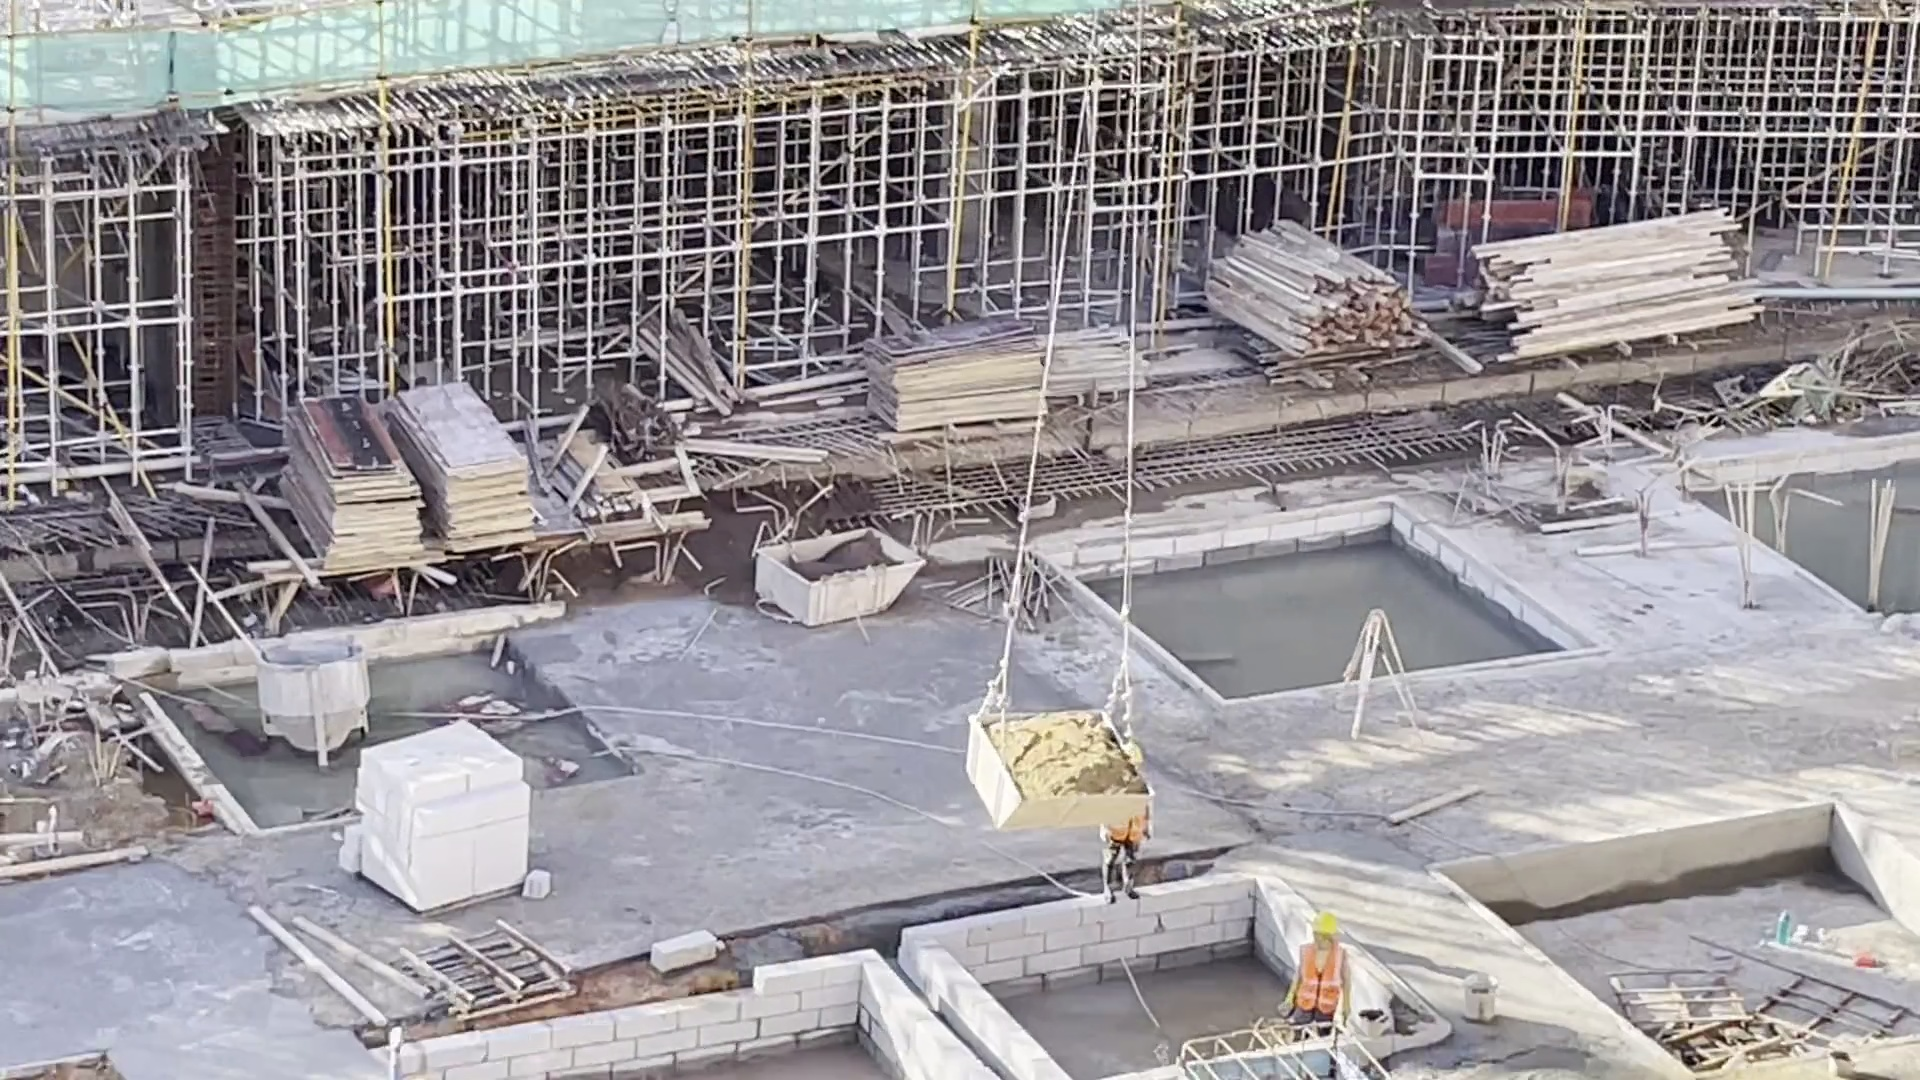board: (380, 380, 544, 557), (274, 395, 430, 582), (866, 313, 1054, 443)
brick: (338, 716, 550, 915)
helmet: (1311, 910, 1341, 936)
hopper: (954, 700, 1152, 839), (759, 527, 928, 627), (251, 638, 374, 767)
person: (1269, 902, 1355, 1042), (1091, 822, 1156, 905)
vest: (1294, 941, 1341, 1012), (1105, 821, 1148, 842)
wood: (1484, 206, 1773, 356), (1196, 219, 1434, 367)
